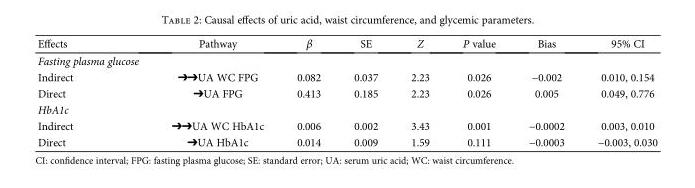table: (36, 36, 656, 149)
table column: (154, 36, 279, 149), (36, 36, 154, 149), (580, 36, 656, 149), (511, 36, 580, 149), (445, 36, 511, 149), (279, 36, 336, 149), (336, 36, 393, 149), (393, 36, 445, 149)
table column header: (36, 36, 656, 52)
table projected row header: (36, 52, 656, 68), (36, 101, 656, 117)
table row: (36, 68, 656, 85), (36, 117, 656, 134), (36, 36, 656, 52), (36, 52, 656, 68), (36, 85, 656, 101), (36, 101, 656, 117), (36, 134, 656, 149)
